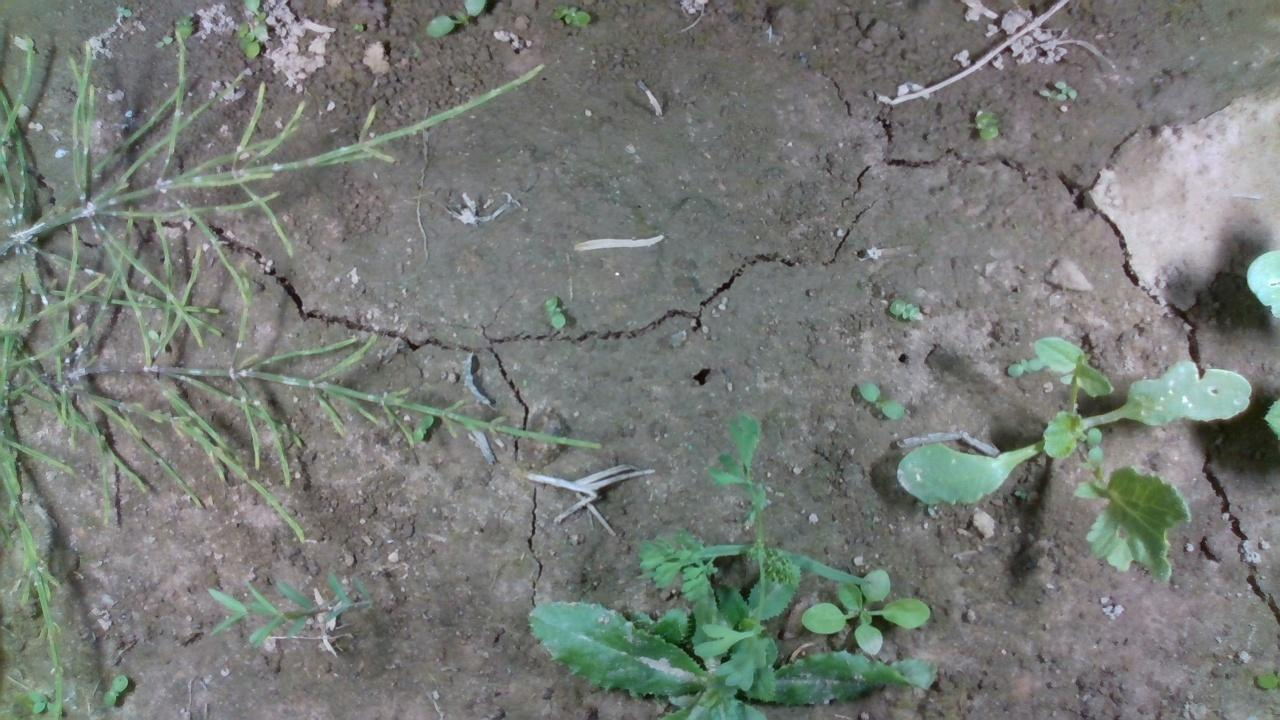weed: (853, 374, 909, 423), (529, 286, 575, 343), (551, 1, 610, 37), (1036, 75, 1086, 112), (887, 289, 926, 331), (965, 104, 1003, 145)
